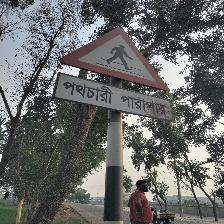Pedestrian-crossing: (55, 26, 173, 121)
